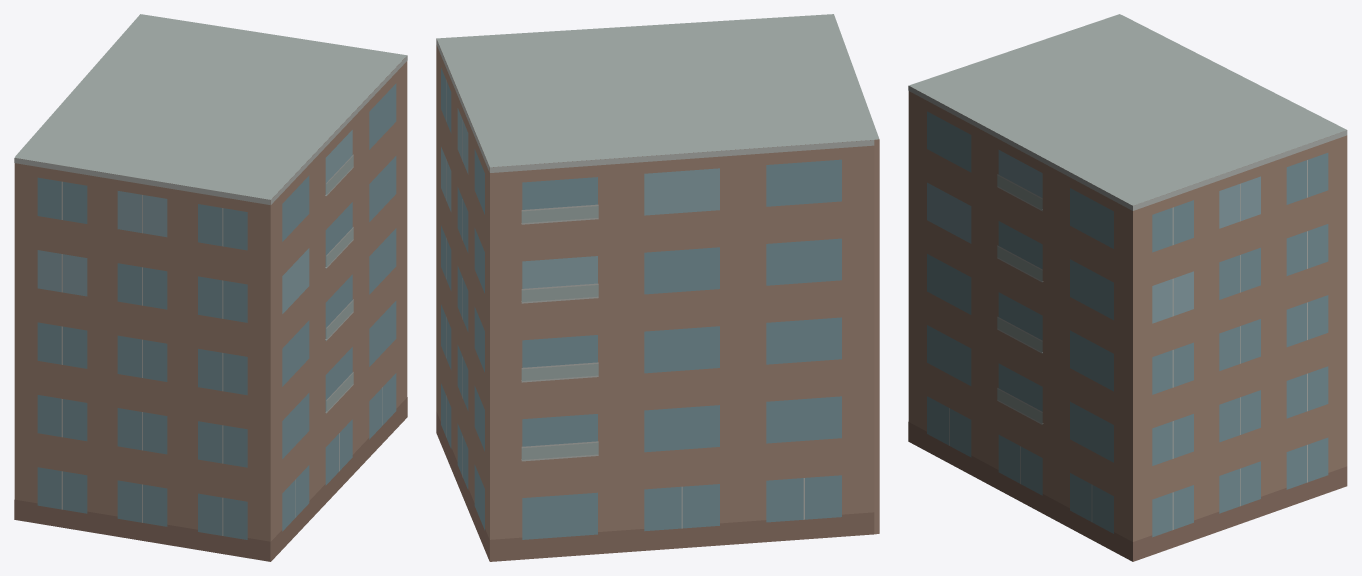
The model's file is survey-upis-32840471.glb.
3 views of the same model, side by side, from view 1: azimuth 30°, elevation 25°; view 2: azimuth 150°, elevation 25°; view 3: azimuth 270°, elevation 25° (orthographic). The views are drawn at different scales.
Visible parts, largest first — view 1: survey-upis-32840471.tmp; view 2: survey-upis-32840471.tmp; view 3: survey-upis-32840471.tmp.
Boxes of the visible parts, x1=… form: survey-upis-32840471.tmp: x1=14, y1=14, x2=407, y2=561; survey-upis-32840471.tmp: x1=436, y1=14, x2=879, y2=561; survey-upis-32840471.tmp: x1=908, y1=14, x2=1347, y2=561.
Size of the model in its own units: 19.19 by 16.6 by 18.55.
